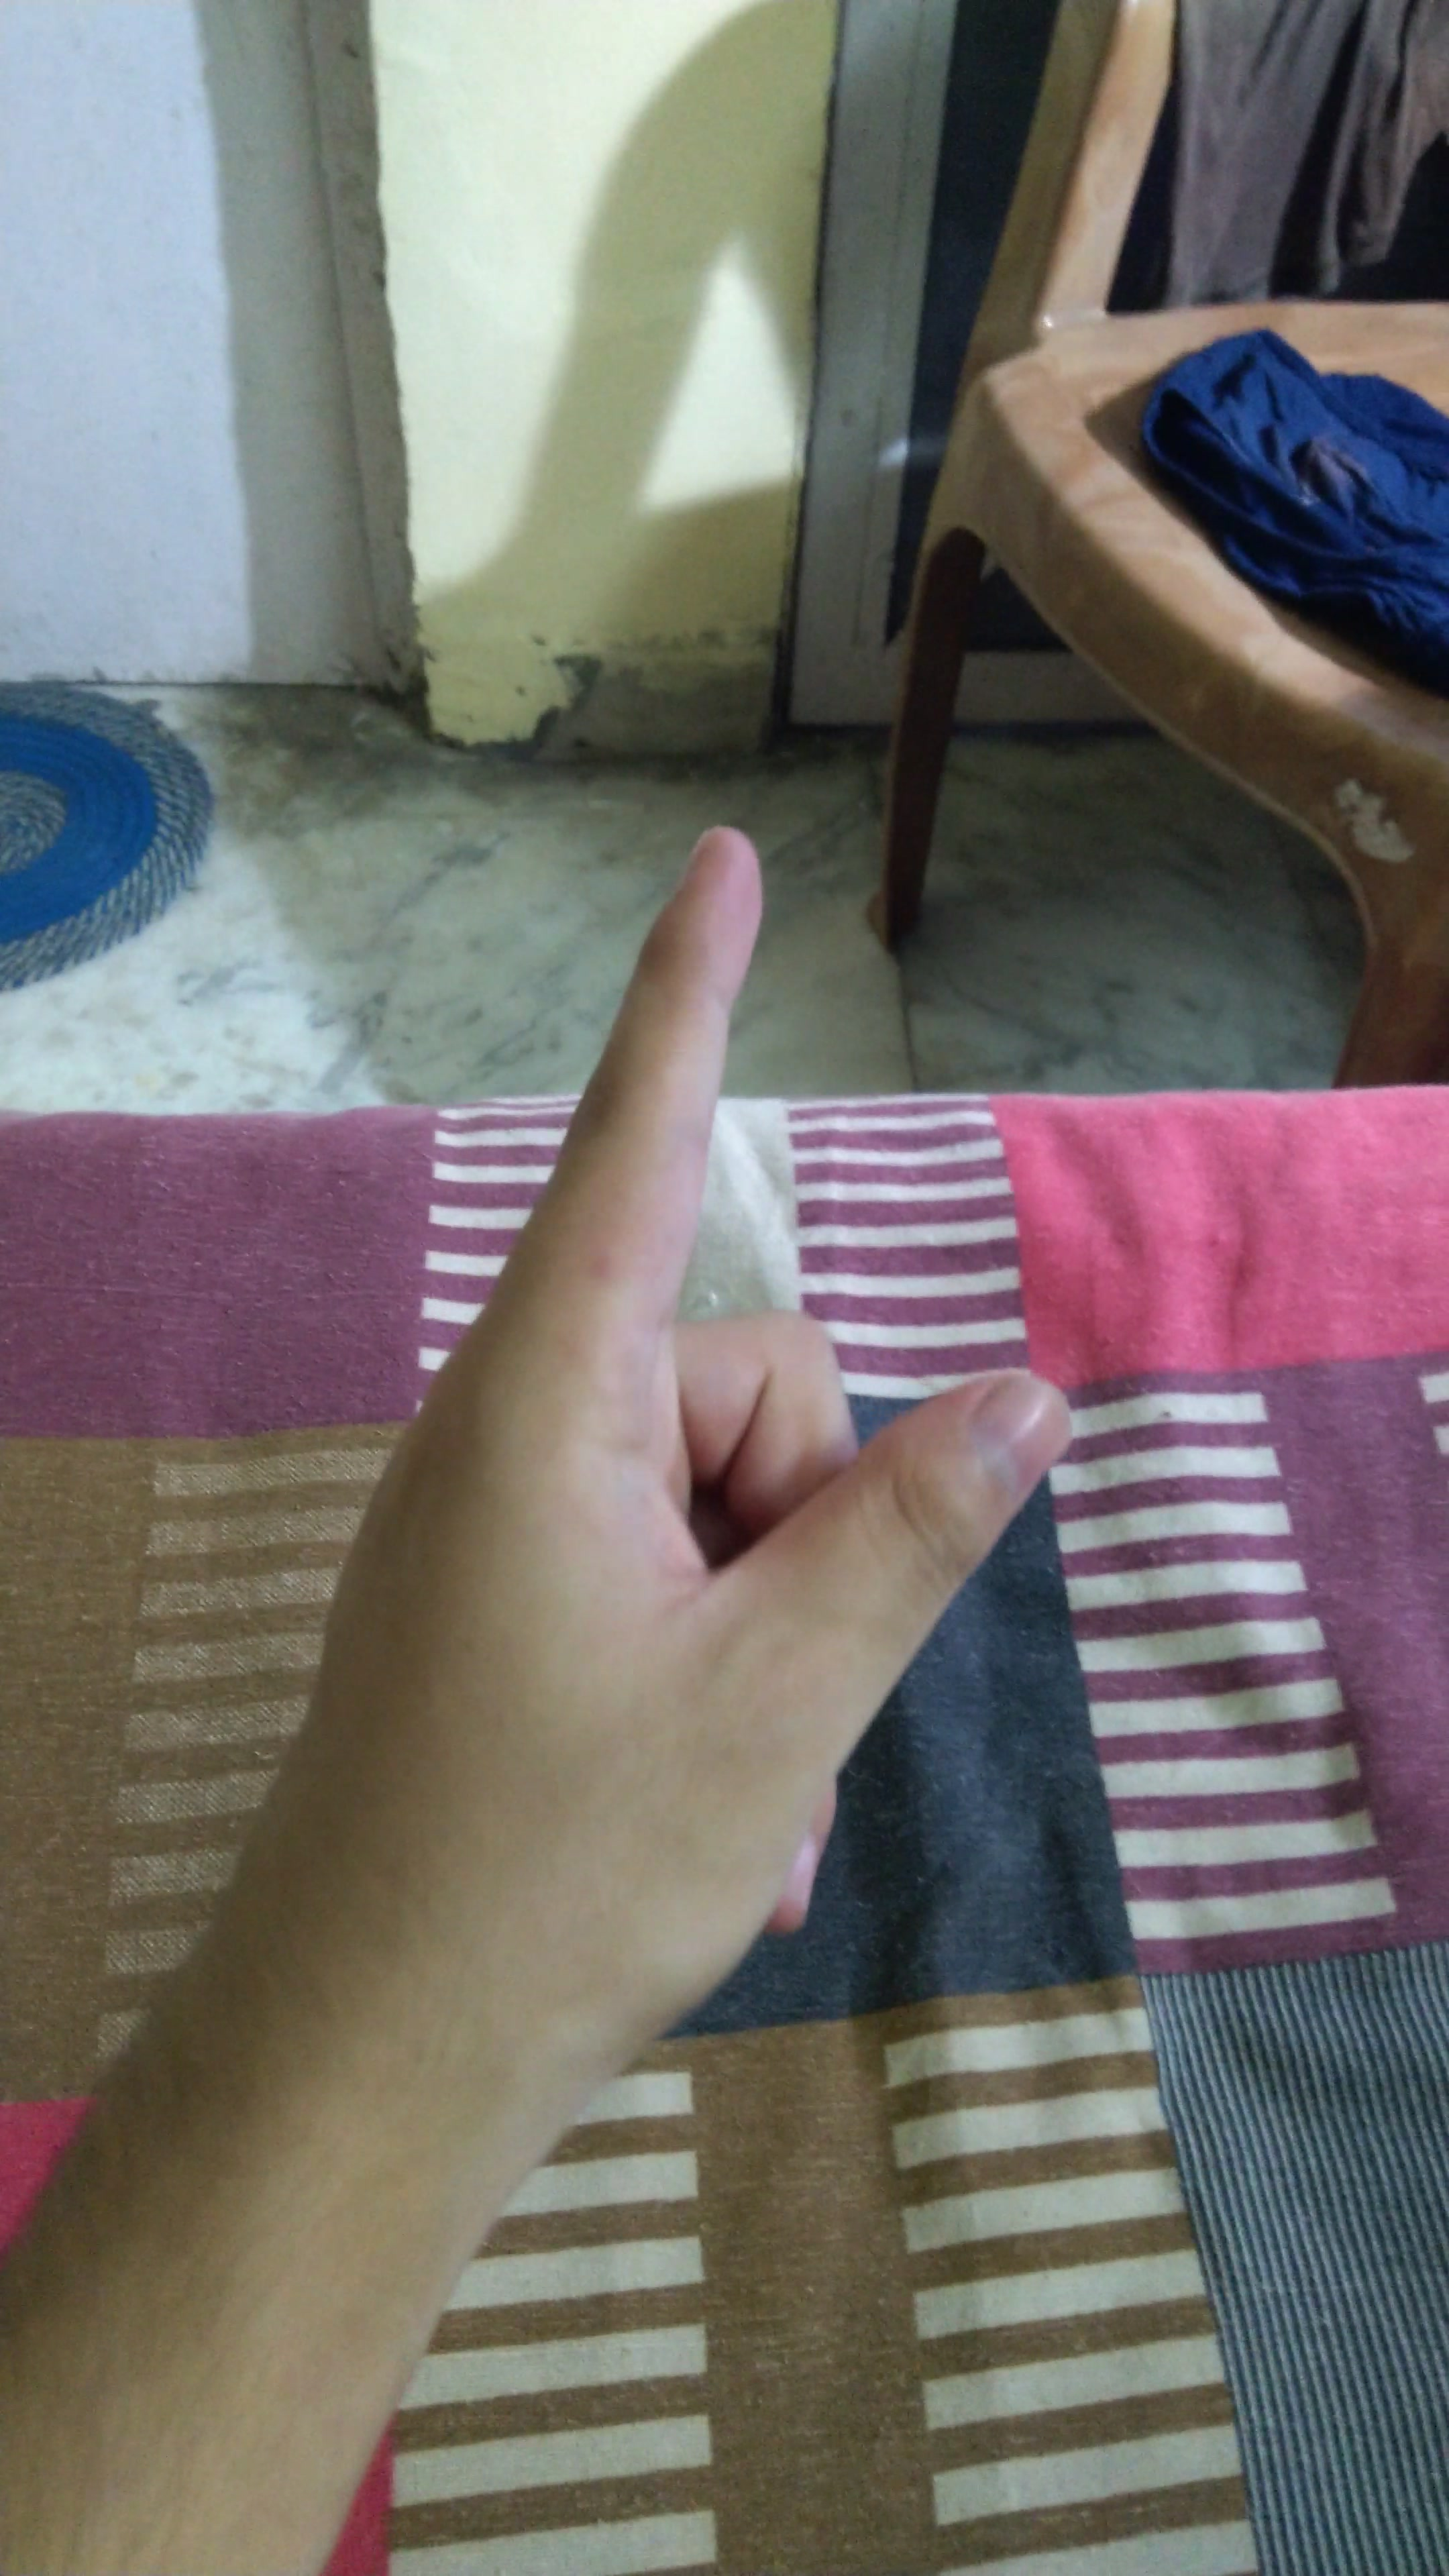hand: (244, 784, 1150, 2102)
